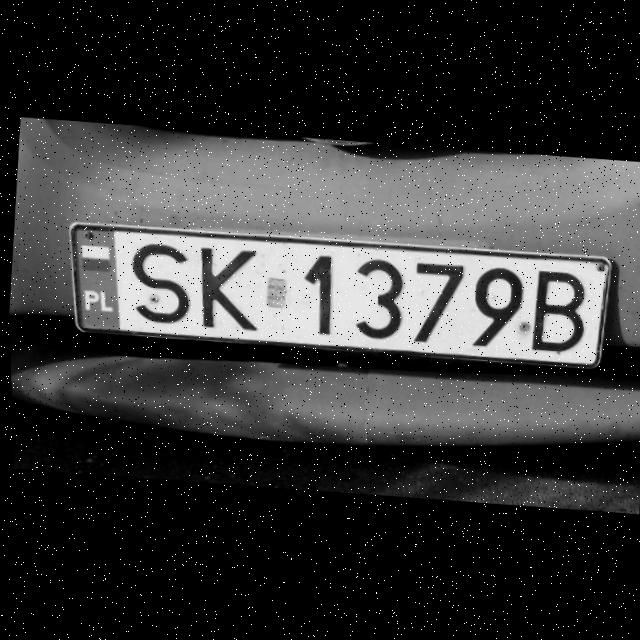license-plates: (71, 223, 613, 368)
